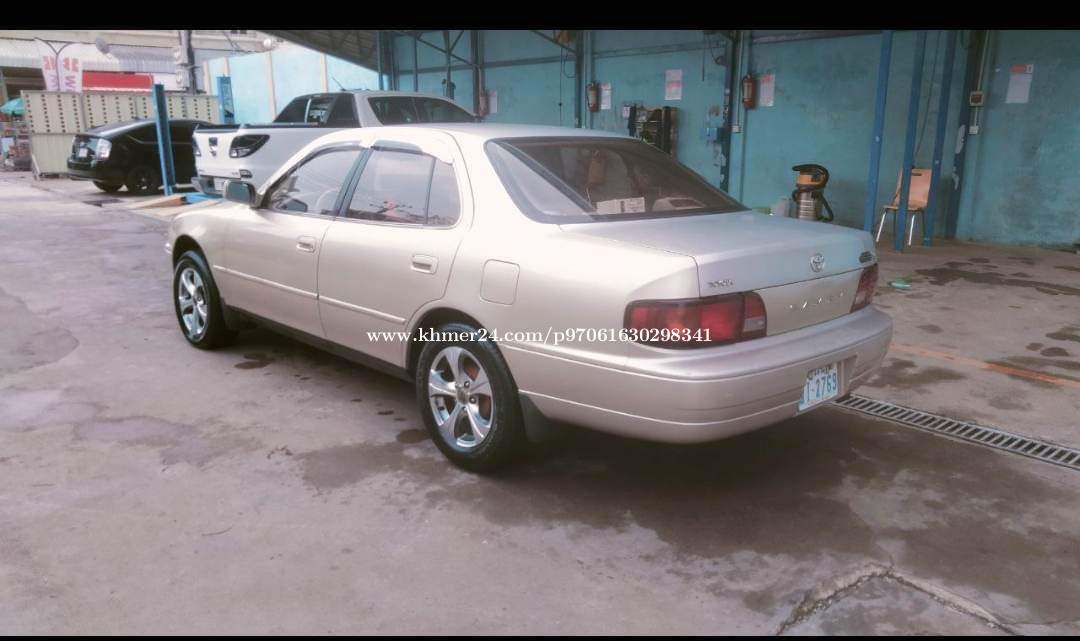car: (165, 113, 902, 480), (189, 82, 489, 187), (69, 112, 236, 198)
